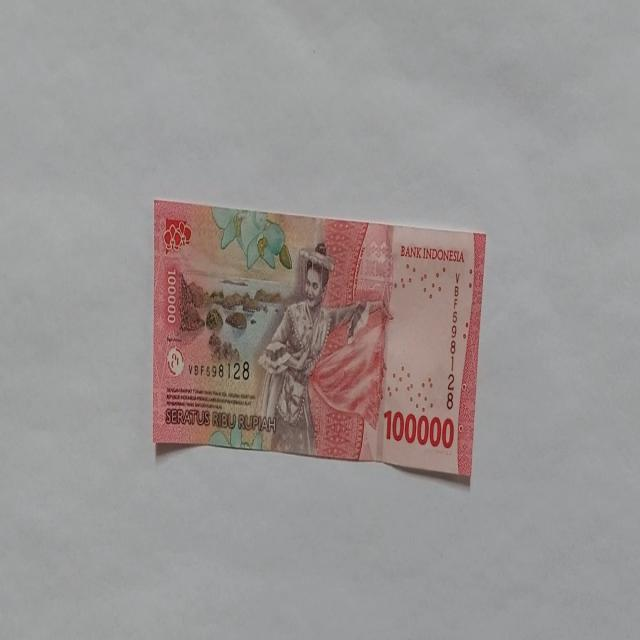seratus ribu rupiah: (152, 199, 486, 484), (254, 241, 388, 458)
